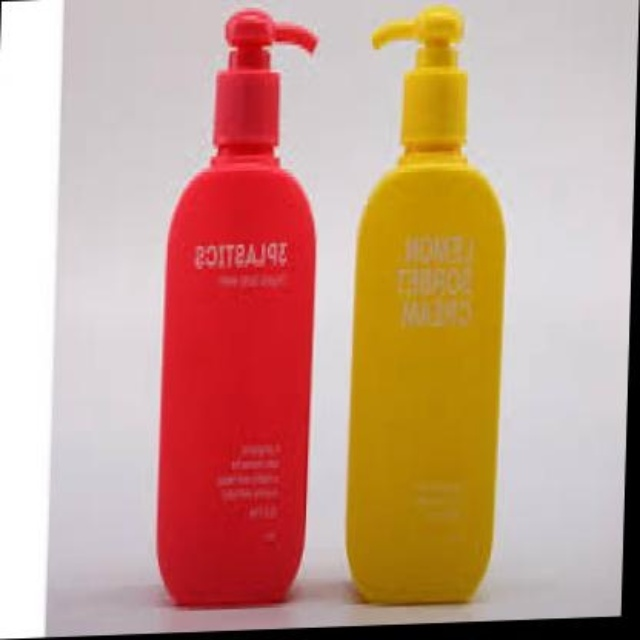trash: (157, 9, 315, 605), (346, 5, 503, 602)
